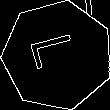L_E: (29, 34, 86, 77)
